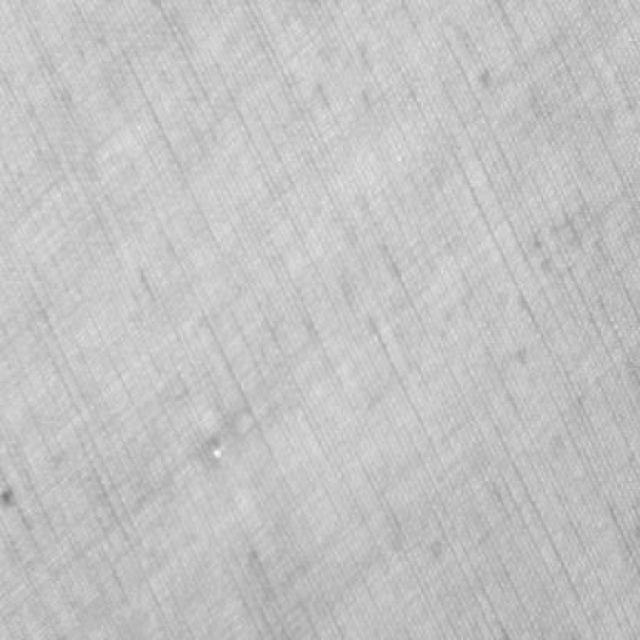other: (140, 426, 273, 484)
